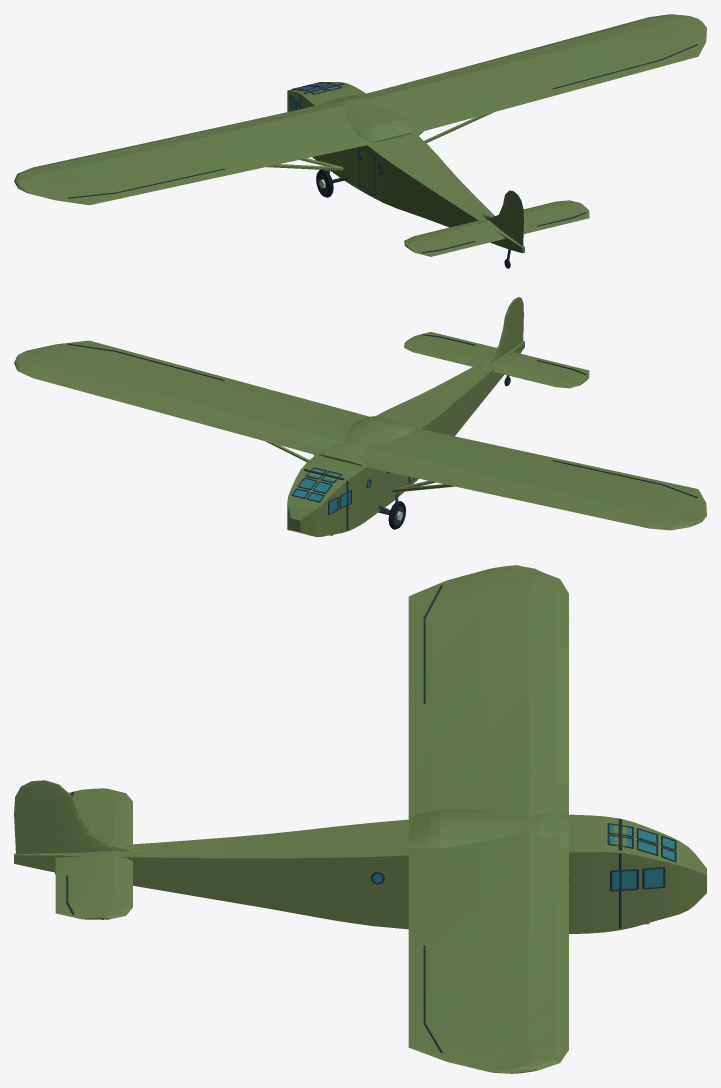
Rendered from archive-cg4a.glb.
3 renders of one model, top to bottom at view 1: azimuth 30°, elevation 25°; view 2: azimuth 150°, elevation 25°; view 3: azimuth 270°, elevation 25°, orthographic. The views are drawn at different scales.
Parts seen in each view (by area): view 1: archive-cg4a-wing_0_1.002-geometry, archive-cg4a-wing_0_-1.002-geometry, archive-cg4a-fuselage.006-geometry, archive-cg4a-wing_root_blend.002-geometry, archive-cg4a-tailplane.004-geometry, archive-cg4a-tailplane.005-geometry, archive-cg4a-vertical_tail.002-geometry, archive-cg4a-cargo_cockpit_glazing-geometry, archive-cg4a-main_landing_wheel-geometry; view 2: archive-cg4a-wing_0_1.002-geometry, archive-cg4a-wing_0_-1.002-geometry, archive-cg4a-fuselage.006-geometry, archive-cg4a-tailplane.004-geometry, archive-cg4a-wing_root_blend.002-geometry, archive-cg4a-tailplane.005-geometry, archive-cg4a-cargo_cockpit_glazing-geometry, archive-cg4a-vertical_tail.002-geometry, archive-cg4a-main_landing_wheel-geometry; view 3: archive-cg4a-wing_0_-1.002-geometry, archive-cg4a-wing_0_1.002-geometry, archive-cg4a-fuselage.006-geometry, archive-cg4a-vertical_tail.002-geometry, archive-cg4a-tailplane.005-geometry, archive-cg4a-wing_root_blend.002-geometry, archive-cg4a-tailplane.004-geometry, archive-cg4a-cargo_cockpit_glazing-geometry.
Boxes of the visible parts, left/top/right/bottom form: archive-cg4a-wing_0_1.002-geometry: left=358, top=14, right=706, bottom=139; archive-cg4a-wing_0_-1.002-geometry: left=14, top=102, right=393, bottom=205; archive-cg4a-fuselage.006-geometry: left=287, top=82, right=524, bottom=253; archive-cg4a-wing_root_blend.002-geometry: left=318, top=93, right=415, bottom=142; archive-cg4a-tailplane.004-geometry: left=404, top=219, right=505, bottom=256; archive-cg4a-tailplane.005-geometry: left=523, top=200, right=589, bottom=233; archive-cg4a-vertical_tail.002-geometry: left=481, top=190, right=523, bottom=246; archive-cg4a-cargo_cockpit_glazing-geometry: left=290, top=82, right=383, bottom=174; archive-cg4a-main_landing_wheel-geometry: left=316, top=169, right=348, bottom=197; archive-cg4a-wing_0_1.002-geometry: left=14, top=340, right=370, bottom=456; archive-cg4a-wing_0_-1.002-geometry: left=357, top=428, right=706, bottom=530; archive-cg4a-fuselage.006-geometry: left=287, top=341, right=524, bottom=536; archive-cg4a-tailplane.004-geometry: left=490, top=352, right=589, bottom=388; archive-cg4a-wing_root_blend.002-geometry: left=318, top=416, right=414, bottom=465; archive-cg4a-tailplane.005-geometry: left=404, top=332, right=496, bottom=366; archive-cg4a-cargo_cockpit_glazing-geometry: left=291, top=467, right=389, bottom=514; archive-cg4a-vertical_tail.002-geometry: left=481, top=297, right=523, bottom=369; archive-cg4a-main_landing_wheel-geometry: left=378, top=492, right=405, bottom=529; archive-cg4a-wing_0_-1.002-geometry: left=408, top=565, right=568, bottom=818; archive-cg4a-wing_0_1.002-geometry: left=408, top=828, right=568, bottom=1073; archive-cg4a-fuselage.006-geometry: left=14, top=814, right=706, bottom=933; archive-cg4a-vertical_tail.002-geometry: left=14, top=780, right=142, bottom=854; archive-cg4a-tailplane.005-geometry: left=55, top=850, right=132, bottom=919; archive-cg4a-wing_root_blend.002-geometry: left=408, top=809, right=568, bottom=849; archive-cg4a-tailplane.004-geometry: left=68, top=788, right=132, bottom=846; archive-cg4a-cargo_cockpit_glazing-geometry: left=370, top=823, right=676, bottom=891.
Size of the model in its own units: 10.39 by 1.58 by 6.
